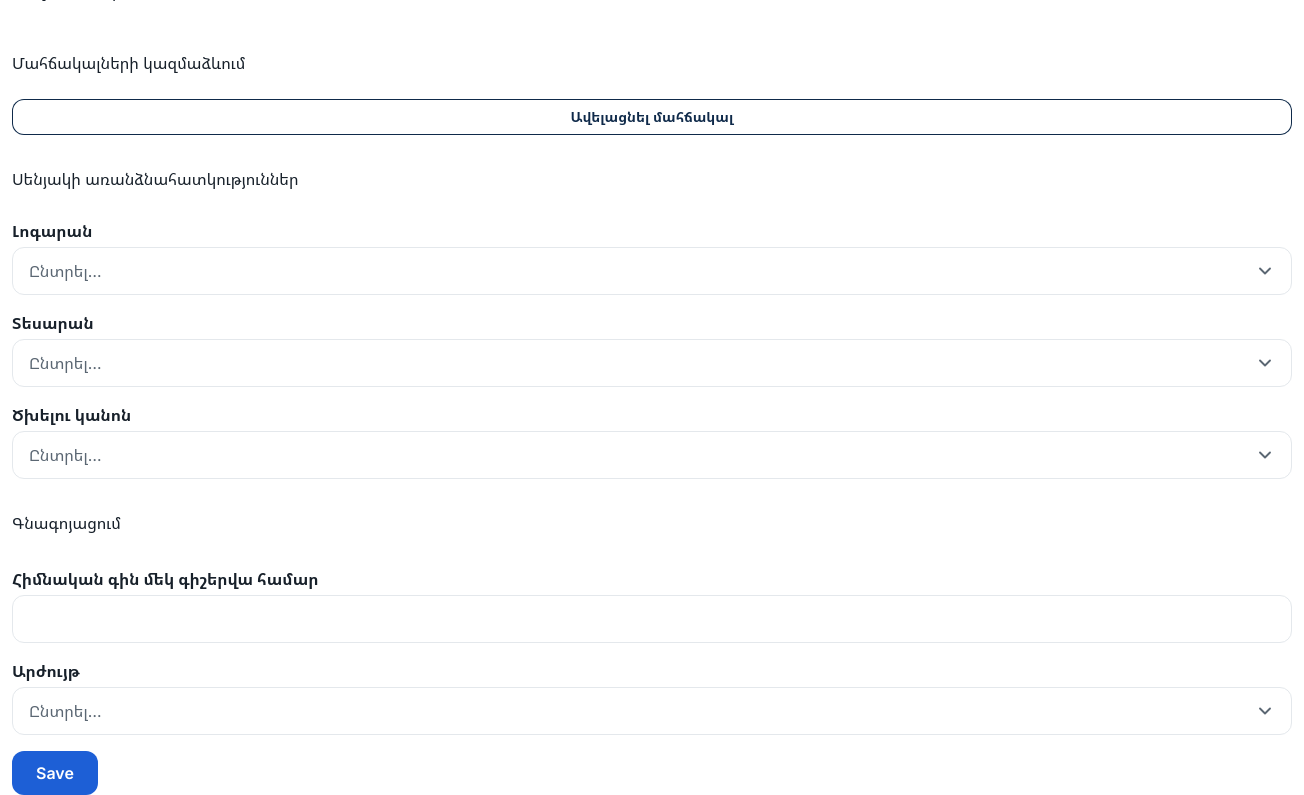
Scenario: BookableUnitForm (P2.2A) › entering a base price amount without a currency shows an incomplete warning and disables submit
(page scrolled)
Type "100" into the number field labelled "Հիմնական գին մեկ գիշերվա համար" at (652, 619), box x1=29 y1=596 x2=1275 y2=642
(page scrolled)
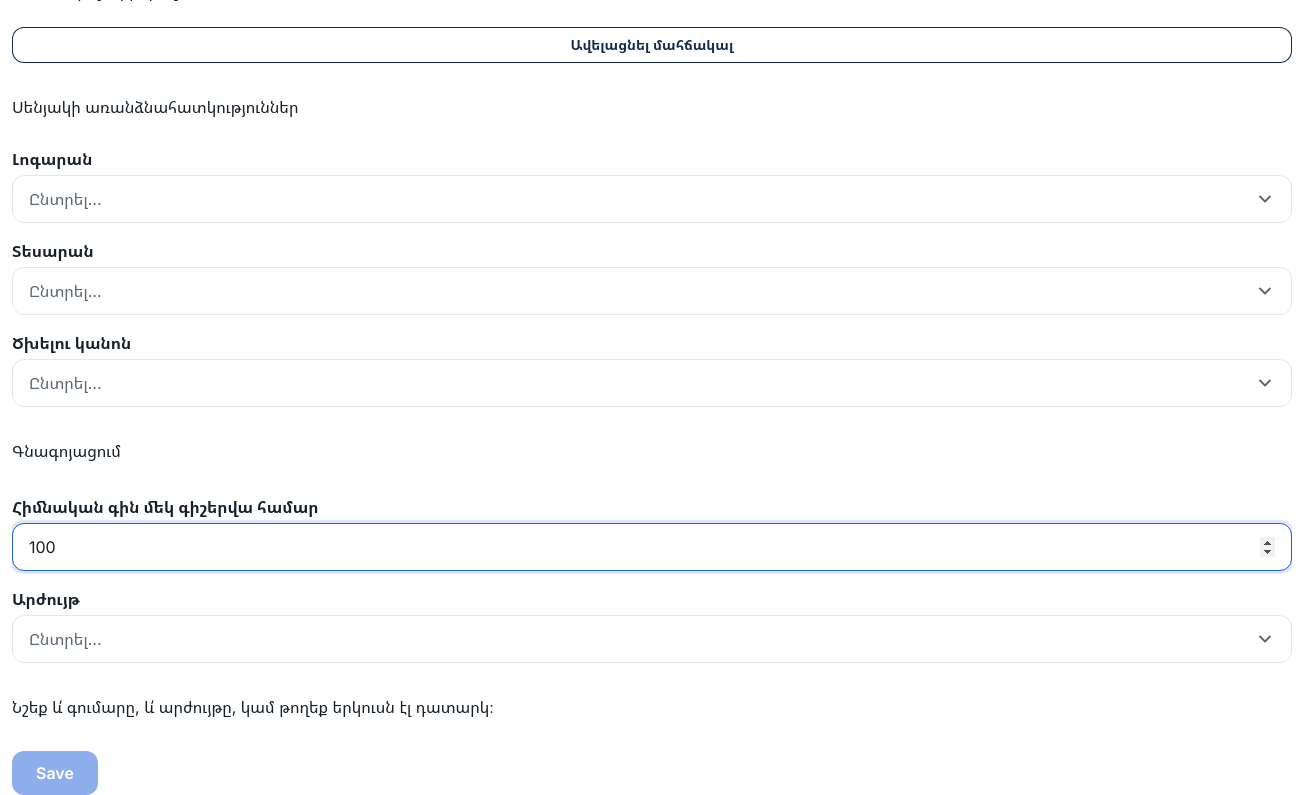
Expected: the text "Նշեք և՛ գումարը, և՛ արժույթը, կամ թողեք երկուսն էլ դատարկ։" is shown, x1=12 y1=697 x2=494 y2=717
Expected: the button "Save" is disabled, x1=12 y1=751 x2=98 y2=794
